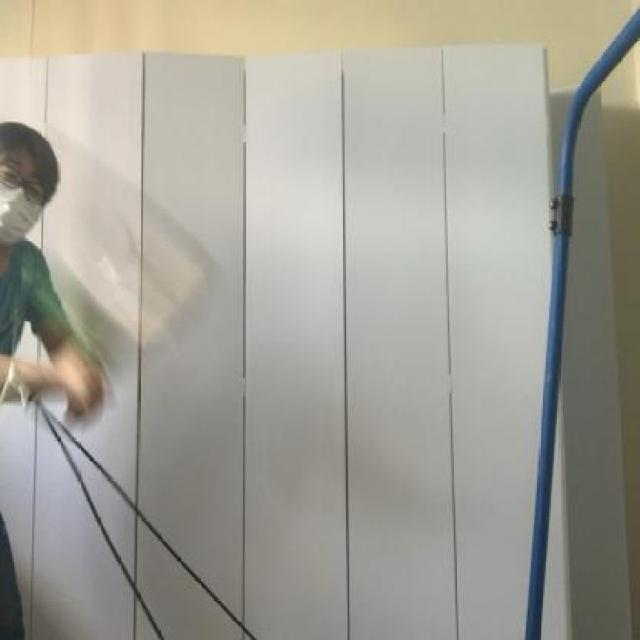baseball: (30, 260, 136, 388)
